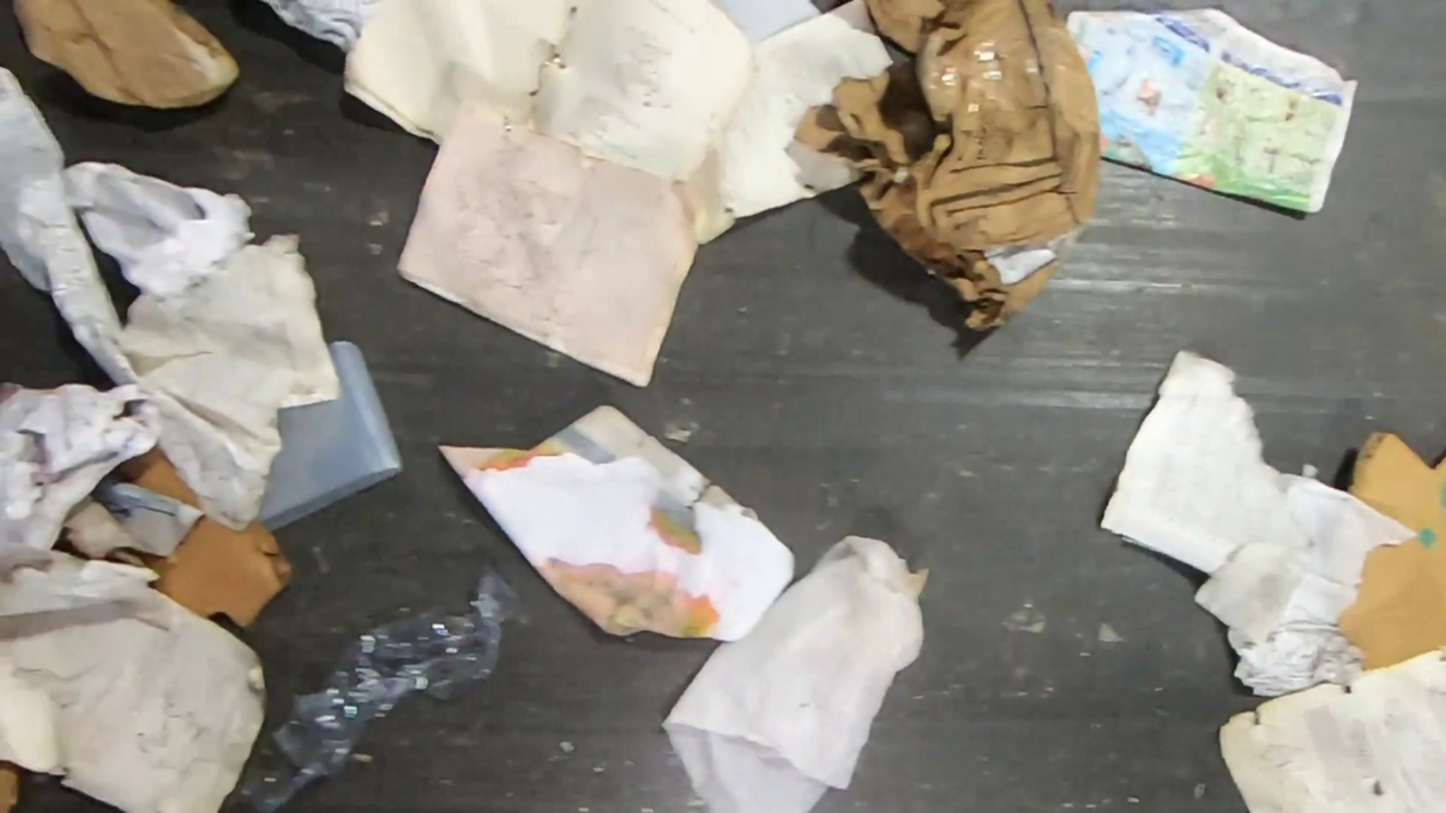cardboard: (793, 0, 1102, 334), (229, 551, 535, 813), (1331, 425, 1446, 674), (6, 0, 244, 113), (134, 514, 300, 631), (115, 442, 202, 510), (0, 758, 26, 813)
plastic: (254, 338, 410, 533)
